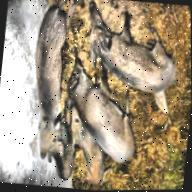boar: (79, 0, 182, 94), (54, 63, 145, 161), (25, 1, 73, 169), (63, 108, 102, 169)
